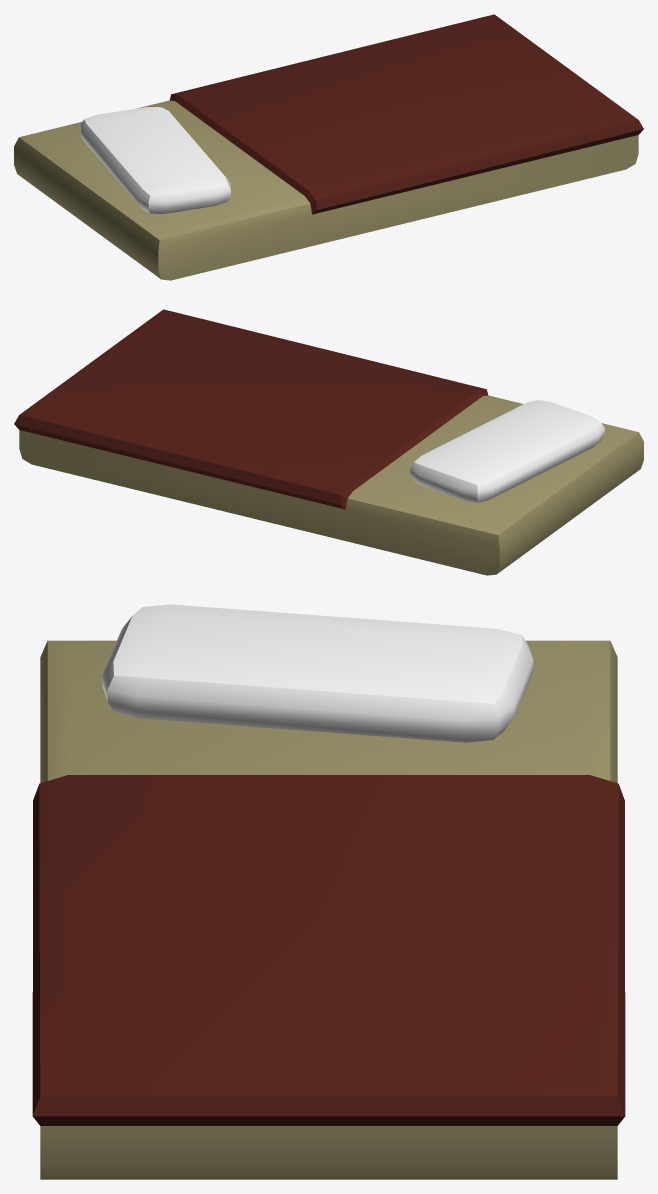
Rendered from SM_Bed.fbx.
3 renders of one model, top to bottom at view 1: azimuth 30°, elevation 25°; view 2: azimuth 150°, elevation 25°; view 3: azimuth 270°, elevation 25°, orthographic. The views are drawn at different scales.
Visible parts, largest first — view 1: Bed; view 2: Bed; view 3: Bed.
Boxes of the visible parts, <box> form: Bed: <box>14,14,643,280</box>; Bed: <box>14,309,643,575</box>; Bed: <box>32,604,625,1179</box>.
Size of the model in its own units: 71.99 by 9.76 by 38.19.
